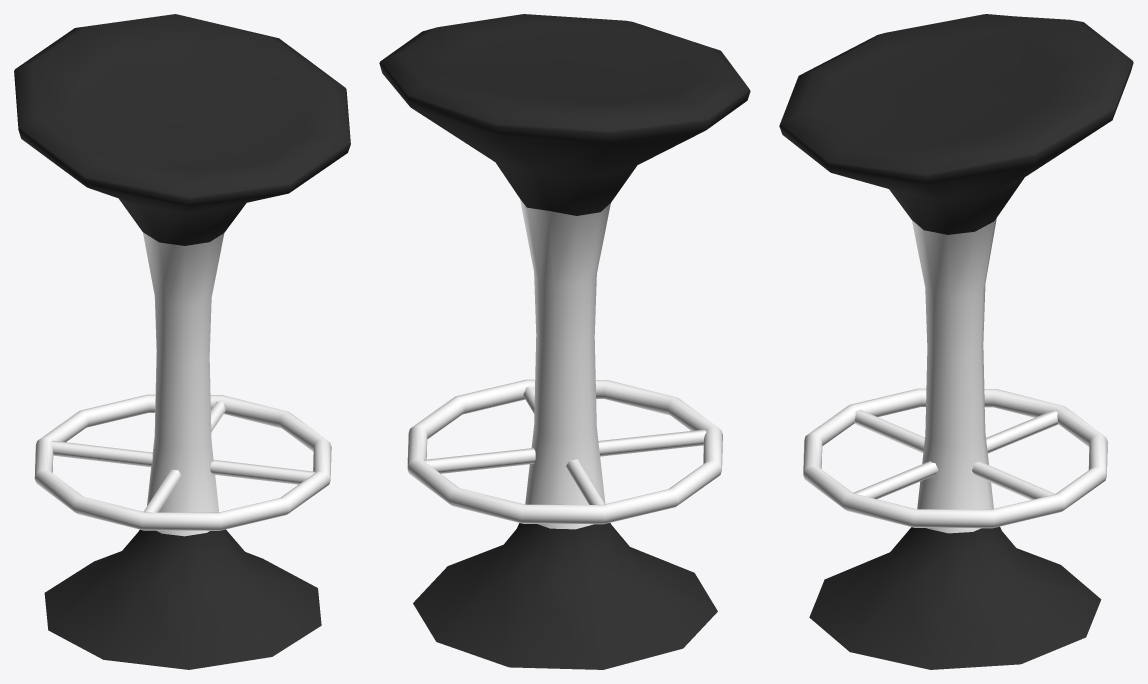
File: Chairs_Bar_Chairs_1.fbx
3 renders of one model, left to right at view 1: azimuth 30°, elevation 25°; view 2: azimuth 150°, elevation 25°; view 3: azimuth 270°, elevation 25°, orthographic. The views are drawn at different scales.
Parts seen in each view (by area): view 1: Cube.030; view 2: Cube.030; view 3: Cube.030.
Boxes of the visible parts, left/top/right/bottom form: Cube.030: left=14, top=14, right=350, bottom=669; Cube.030: left=379, top=14, right=750, bottom=669; Cube.030: left=779, top=14, right=1133, bottom=669.
Size of the model in its own units: 51.73 by 87.71 by 51.74.
